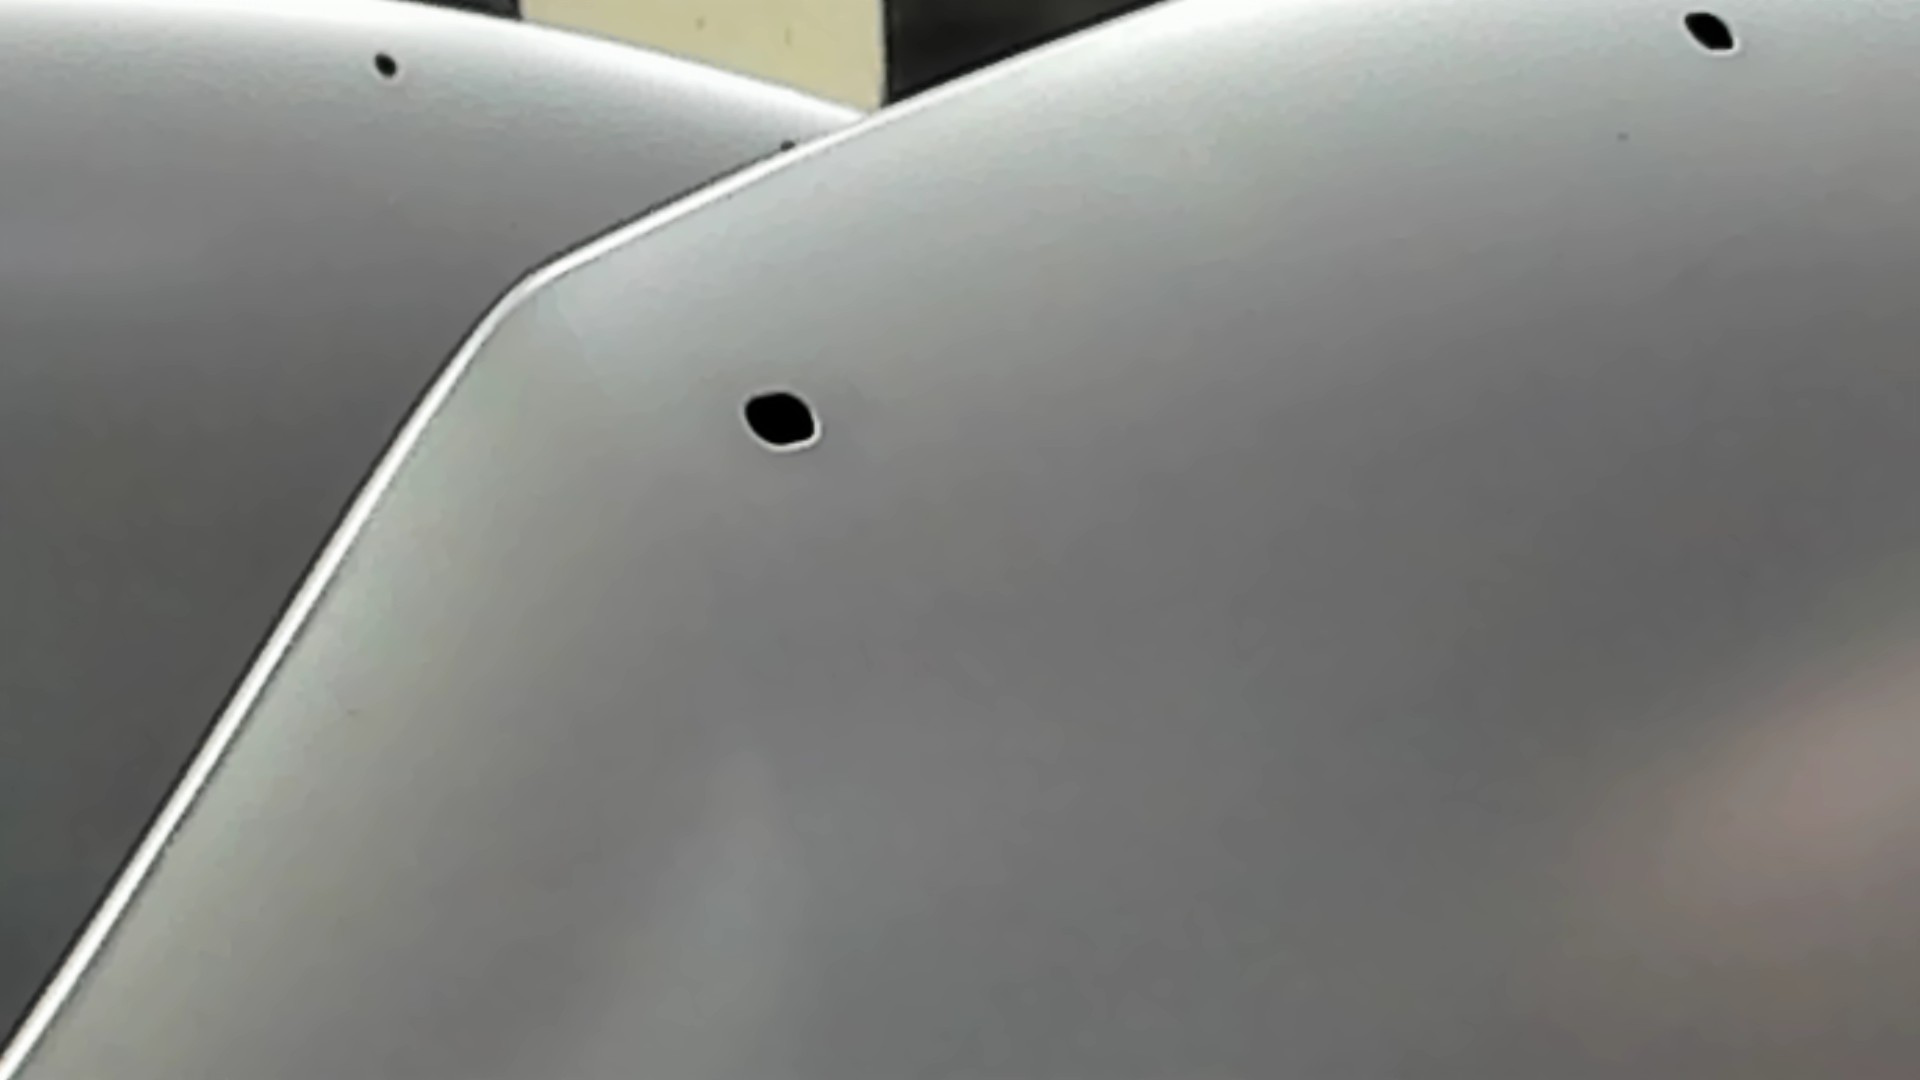amorfo: (741, 386, 832, 455), (1677, 3, 1743, 70)
capo: (945, 152, 1920, 1080)
